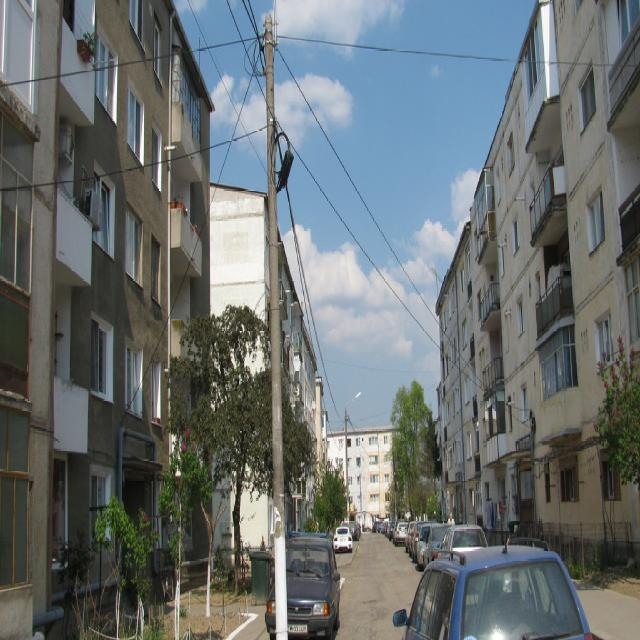car: (403, 538, 580, 638), (330, 521, 350, 546)
